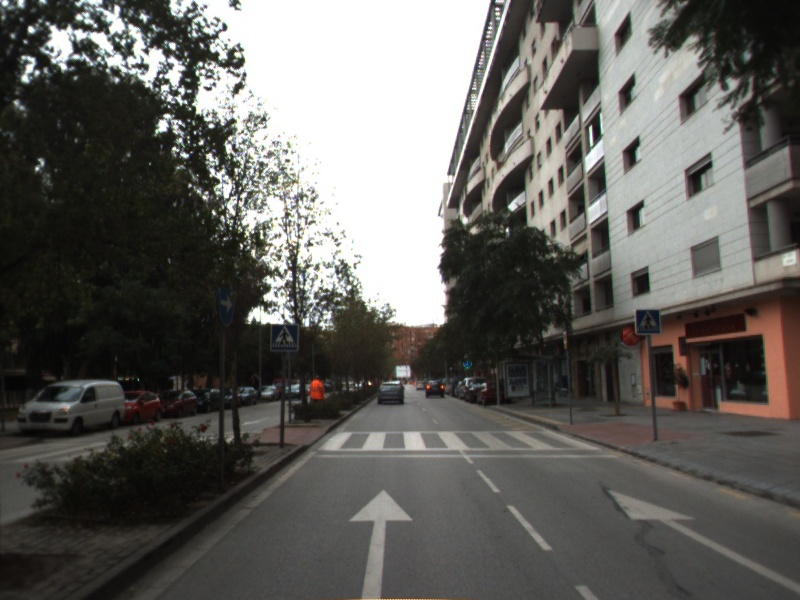STRAIGHT: (604, 486, 800, 594), (345, 486, 417, 600)
